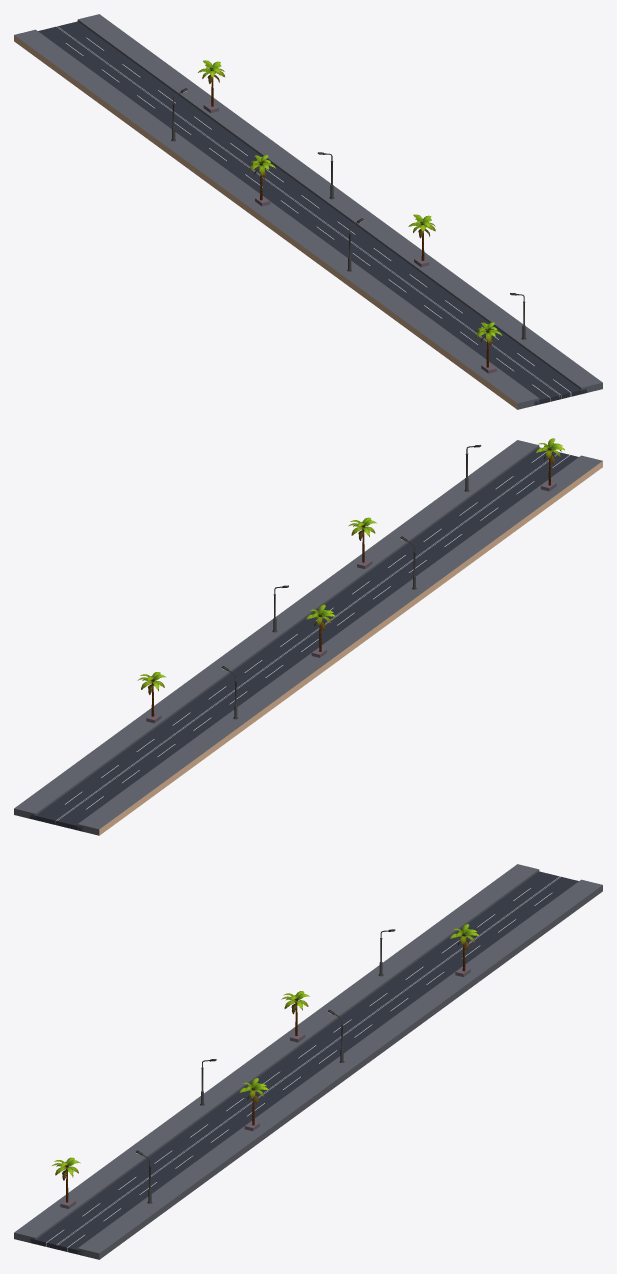
File: Asphalt.glb
3 views of the same model, one above another, from view 1: azimuth 30°, elevation 25°; view 2: azimuth 150°, elevation 25°; view 3: azimuth 330°, elevation 25° (orthographic).
Visible parts, largest first — view 1: Cube.745, Cube.779, Cube.746; view 2: Cube.745, Cube.779, Cube.746; view 3: Cube.745, Cube.746, Cube.779.
Boxes of the visible parts, x1,y1,x2,y2 form: Cube.745: (38,21,586,405); Cube.779: (14,29,539,409); Cube.746: (77,14,602,393); Cube.745: (30,447,578,831); Cube.779: (77,455,602,835); Cube.746: (14,440,539,819); Cube.745: (30,871,578,1255); Cube.746: (77,879,602,1259); Cube.779: (14,864,539,1243).
Size of the model in its own units: 20.68 by 12.7 by 210.
Materials: 7 (1 with a texture image).
